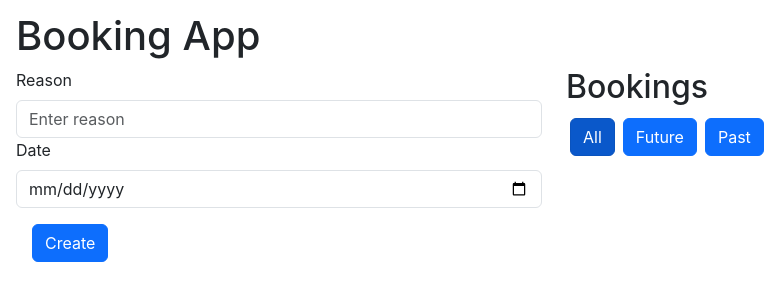
Test: Home component › displays validation error if reason is missing
Click the button "Create" at [70, 243], box [32,224,108,262]
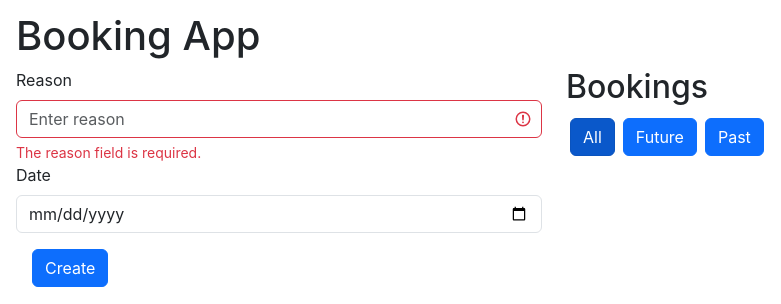
Expected: the button "Create" is shown, [32,249,108,287]
Result: the text "The reason field is required." is shown at [16,144,201,161]
